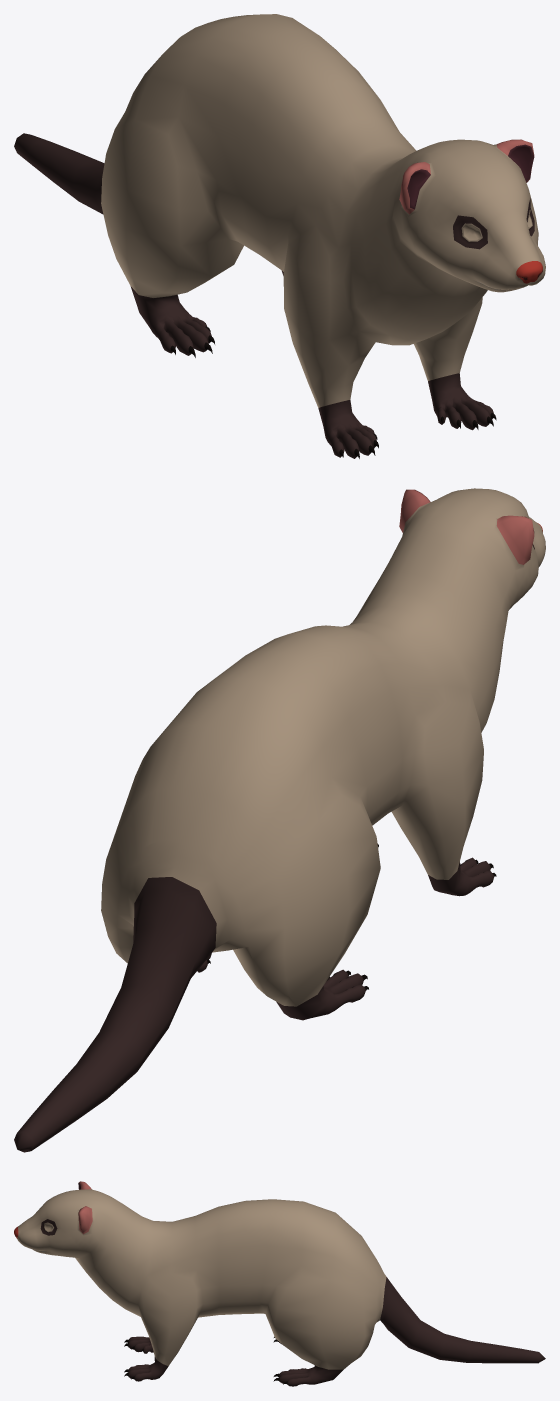
File: ferret_ferret.obj
3 views of the same model, one above another, from view 1: azimuth 30°, elevation 25°; view 2: azimuth 150°, elevation 25°; view 3: azimuth 270°, elevation 25° (orthographic). The views are drawn at different scales.
Size of the model in its own units: 0.1382 by 0.1942 by 0.5531.
